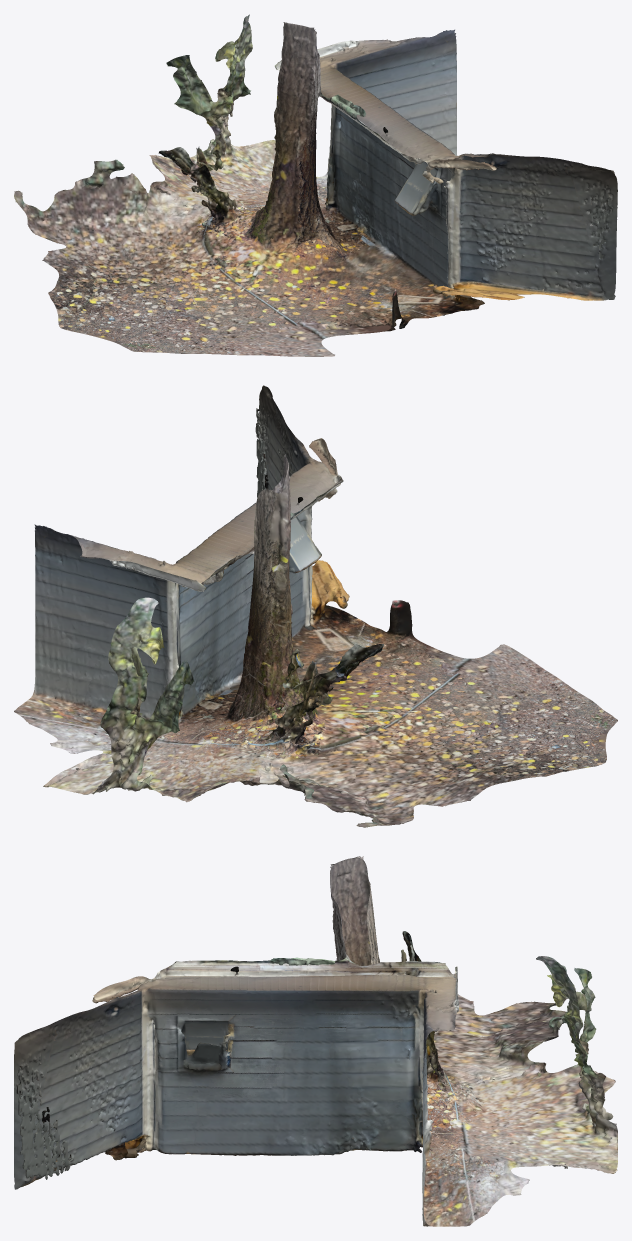
3 renders of one model, top to bottom at view 1: azimuth 30°, elevation 25°; view 2: azimuth 150°, elevation 25°; view 3: azimuth 270°, elevation 25°, orthographic. The views are drawn at different scales.
Parts seen in each view (by area): view 1: Object; view 2: Object; view 3: Object.
Part boxes in pixels (x1,y1,x2,y2): Object: (14,14,617,356); Object: (14,385,617,827); Object: (14,856,617,1226).
Bounding box in the file's own units: 7.55 × 3.68 × 7.69.
1 material, 1 textured.
